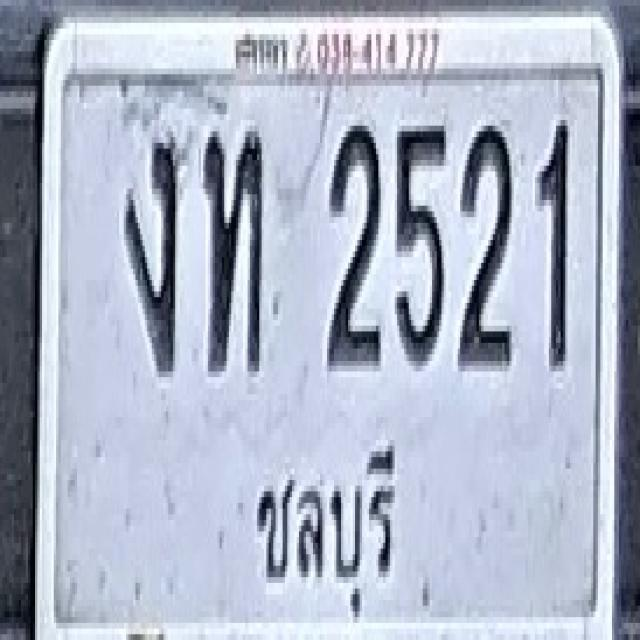1: (537, 117, 568, 369)
2: (327, 120, 381, 366), (458, 120, 511, 366)
5: (395, 120, 446, 366)
A07: (124, 134, 177, 374)
A23: (203, 126, 264, 371)
CBI: (246, 436, 407, 624)
